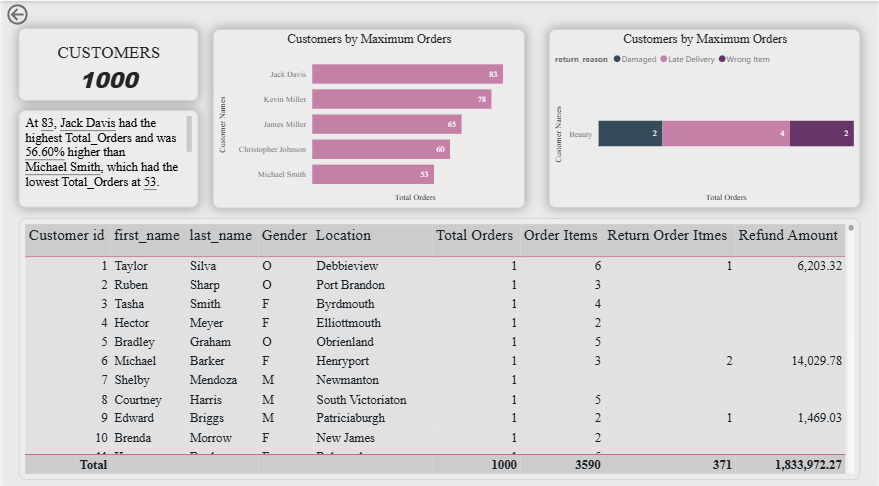

The page's visual inventory and layout, read from the dashboard file:
{"tool":"powerbi","page":{"name":"Customers","canvas":[1280,720],"ordinal":1},"visuals":[{"type":"actionButton","box":[0,0,100,40],"z":0},{"type":"card","title":"CUSTOMERS","fields":{"Values":["CountNonNull(customer.customer_id)"]},"box":[21.3,39.6,263.7,106.7],"z":1000},{"type":"barChart","title":"Customers by Maximum  Orders","fields":{"Category":["customer.Full_Name"],"Y":["Sum(customer.total_orders)"]},"box":[306.5,41.8,457.7,262.7],"z":2000},{"type":"tableEx","fields":{"Values":["customer.customer_id","customer.first_name","customer.last_name","customer.gender","customer.location","CountNonNull(customer.total_orders)","CountNonNull(order_items.order_item_id)","CountNonNull(returns.order_item_id)","Sum(returns.refund_amount)"]},"box":[21.3,318.6,1236.2,384.1],"z":3000},{"type":"textbox","box":[21.3,160.1,263.7,143.3],"z":4000},{"type":"barChart","title":"Customers by Maximum  Orders","fields":{"Category":["product.category"],"Y":["CountNonNull(returns.quantity)"],"Series":["returns.return_reason"]},"box":[800.3,41.2,457.3,262.2],"z":5000}]}

Visuals, with their boxes in screenshot pixels (x1, y1, x2, y2), scaled from the page's 1280x720 canvas onto the 879x486 screenshot:
actionButton: rect(0, 0, 69, 27)
"CUSTOMERS" card: rect(15, 27, 196, 99)
"Customers by Maximum  Orders" barChart: rect(210, 28, 525, 206)
tableEx - customer.customer_id x customer.first_name: rect(15, 215, 864, 474)
textbox: rect(15, 108, 196, 205)
"Customers by Maximum  Orders" barChart: rect(550, 28, 864, 205)
